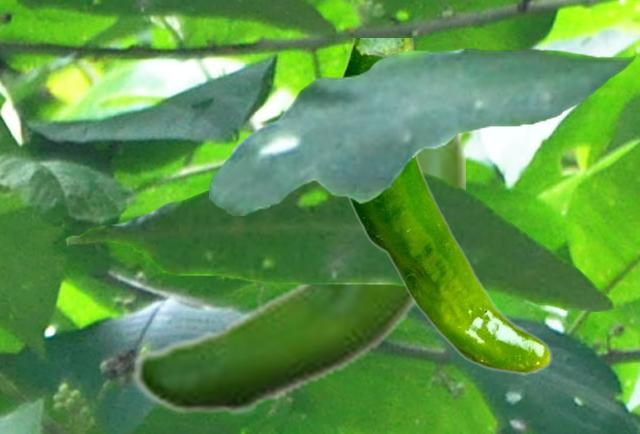green_chili: (131, 134, 464, 416), (340, 38, 551, 374)
